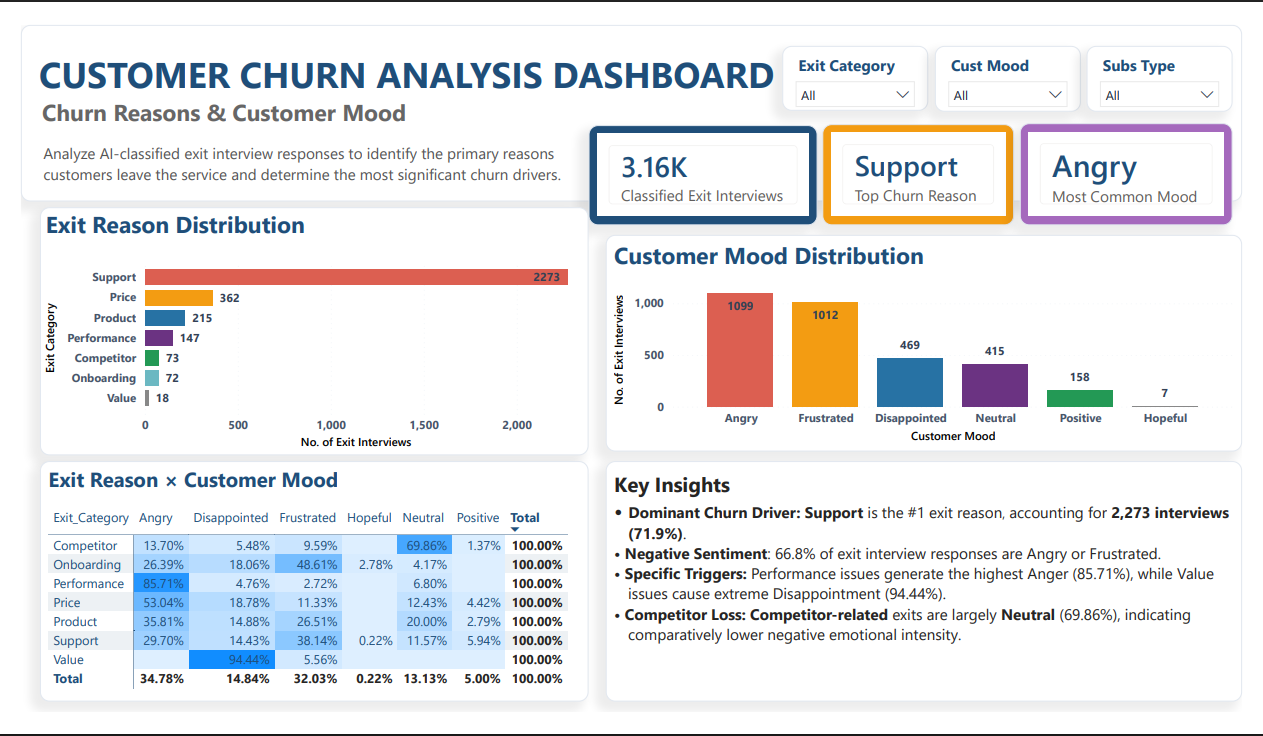

The page's visual inventory and layout, read from the dashboard file:
{"tool":"powerbi","page":{"name":"Churn Reasons & Mood Analysis","canvas":[1280,720],"ordinal":2},"visuals":[{"type":"textbox","box":[0,0,1280,185],"z":0},{"type":"slicer","fields":{"Values":["churn_exit_interviews_cleaned.Exit_Category"]},"box":[798.3,21.7,152.7,68.4],"z":1000},{"type":"slicer","fields":{"Values":["churn_exit_interviews_cleaned.Mood"]},"box":[957.9,22.1,152.7,68.4],"z":2000},{"type":"slicer","fields":{"Values":["churn_customers_cleaned.Subscription_Type"]},"box":[1117.1,22.1,152.7,68.4],"z":3000},{"type":"cardVisual","fields":{"Data":["churn_exit_interviews_cleaned.Top Churn Reason"]},"box":[840,104.4,201.1,105.6],"z":4000},{"type":"cardVisual","fields":{"Data":["Count(churn_exit_interviews_cleaned.Customer_ID)"]},"box":[594.9,105,240.2,105],"z":5000},{"type":"cardVisual","fields":{"Data":["churn_exit_interviews_cleaned.Most Common Mood"]},"box":[1046.7,103.3,223.3,106.7],"z":6000},{"type":"clusteredBarChart","title":"Exit Reason Distribution","fields":{"Category":["churn_exit_interviews_cleaned.Exit_Category"],"Y":["Count(churn_exit_interviews_cleaned.Customer_ID)"]},"box":[20,191.2,575,260],"z":7000},{"type":"clusteredColumnChart","title":"Customer Mood Distribution","fields":{"Category":["churn_exit_interviews_cleaned.Mood"],"Y":["Count(churn_exit_interviews_cleaned.Customer_ID)"]},"box":[613.3,220,666.7,226.7],"z":8000},{"type":"pivotTable","title":"Exit Reason × Customer Mood","fields":{"Values":["Min(churn_exit_interviews_cleaned.Customer_ID)"],"Rows":["churn_exit_interviews_cleaned.Exit_Category"],"Columns":["churn_exit_interviews_cleaned.Mood"]},"box":[20,456.7,575,252],"z":9000},{"type":"textbox","box":[613,457,667,252],"z":10000}]}

Visuals, with their boxes on the page's 1280x720 design canvas (x1, y1, x2, y2). These are canvas units, not pixel positions in the 1263x736 screenshot, which may show the page scaled, cropped or inside an application window:
textbox: <region>0, 0, 1280, 185</region>
slicer - churn_exit_interviews_cleaned.Exit_Category: <region>798, 22, 951, 90</region>
slicer - churn_exit_interviews_cleaned.Mood: <region>958, 22, 1111, 90</region>
slicer - churn_customers_cleaned.Subscription_Type: <region>1117, 22, 1270, 90</region>
cardVisual - churn_exit_interviews_cleaned.Top Churn Reason: <region>840, 104, 1041, 210</region>
cardVisual - Count(churn_exit_interviews_cleaned.Customer_ID): <region>595, 105, 835, 210</region>
cardVisual - churn_exit_interviews_cleaned.Most Common Mood: <region>1047, 103, 1270, 210</region>
"Exit Reason Distribution" clusteredBarChart: <region>20, 191, 595, 451</region>
"Customer Mood Distribution" clusteredColumnChart: <region>613, 220, 1280, 447</region>
"Exit Reason × Customer Mood" pivotTable: <region>20, 457, 595, 709</region>
textbox: <region>613, 457, 1280, 709</region>
